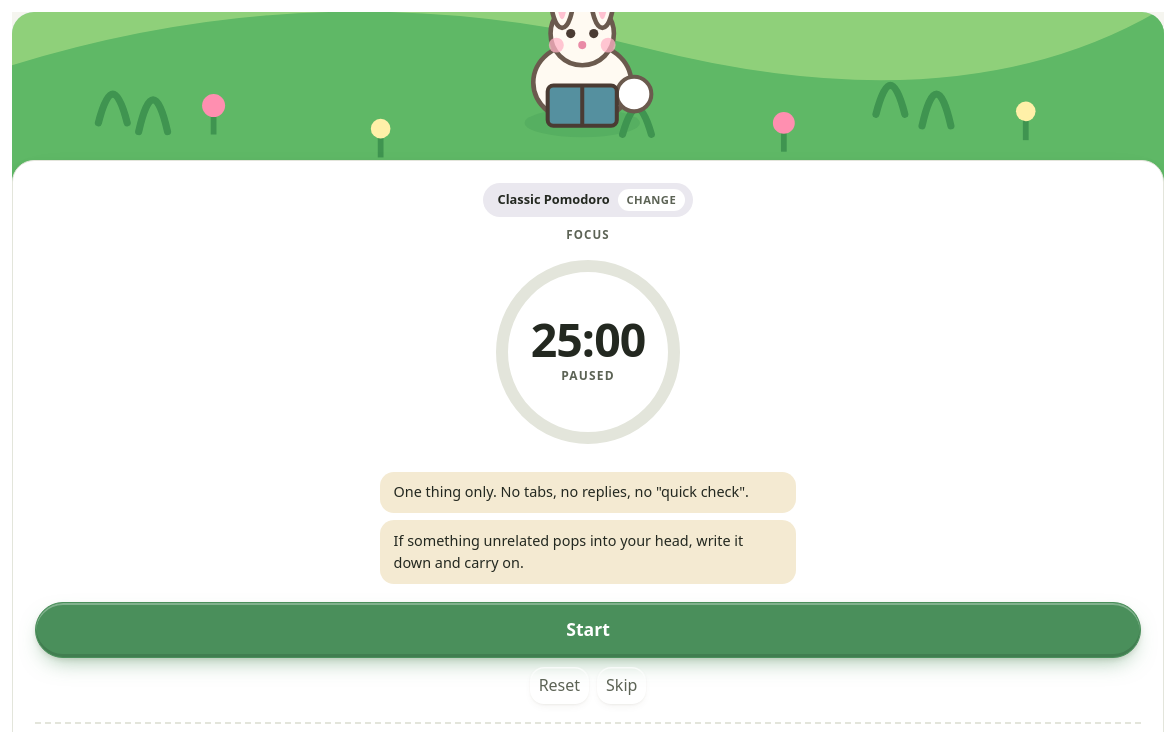
FocusTimer — controls › starts and pauses
The width and height of the screenshot is (1176, 732).
What coordinates should you click on to do the following:
click the button "Start"
I would click on:
 (588, 630)
Its box is [35, 602, 1141, 658].
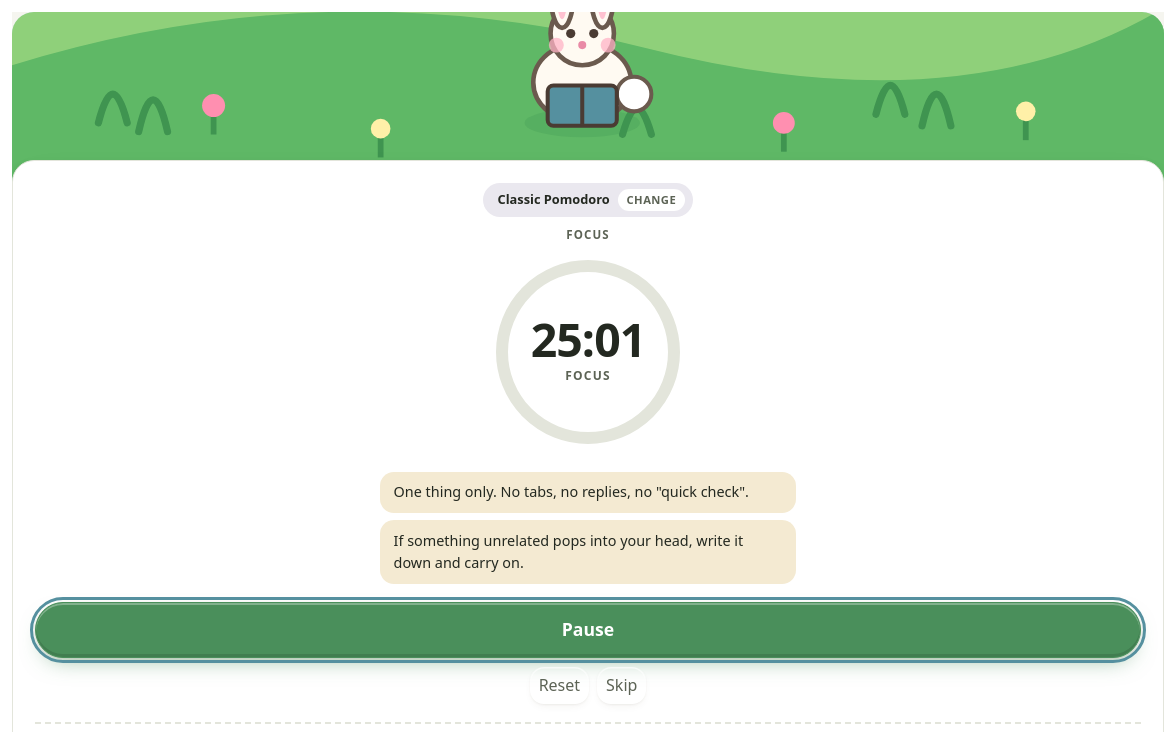
Check: the button "Pause" is shown
What coordinates should you click on to do the following:
click the button "Pause"
I would click on:
 (588, 630)
Its box is [35, 602, 1141, 658].
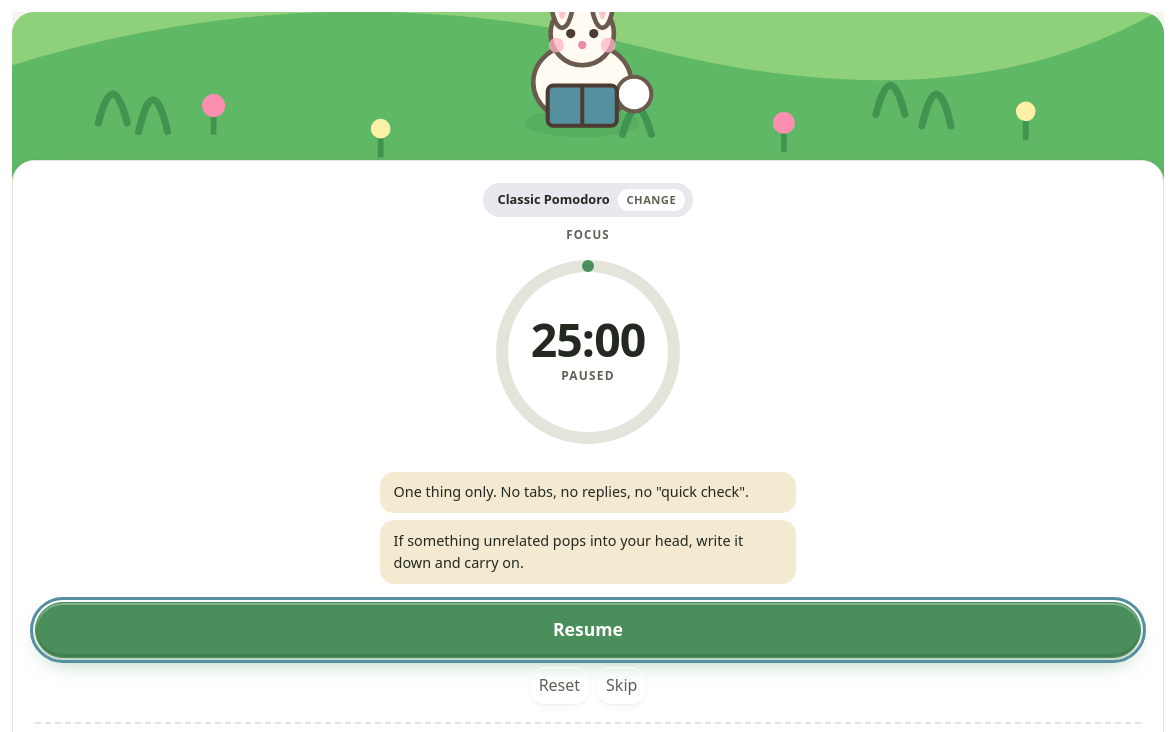
Check: the button "Resume" is shown, box [35, 602, 1141, 658]
